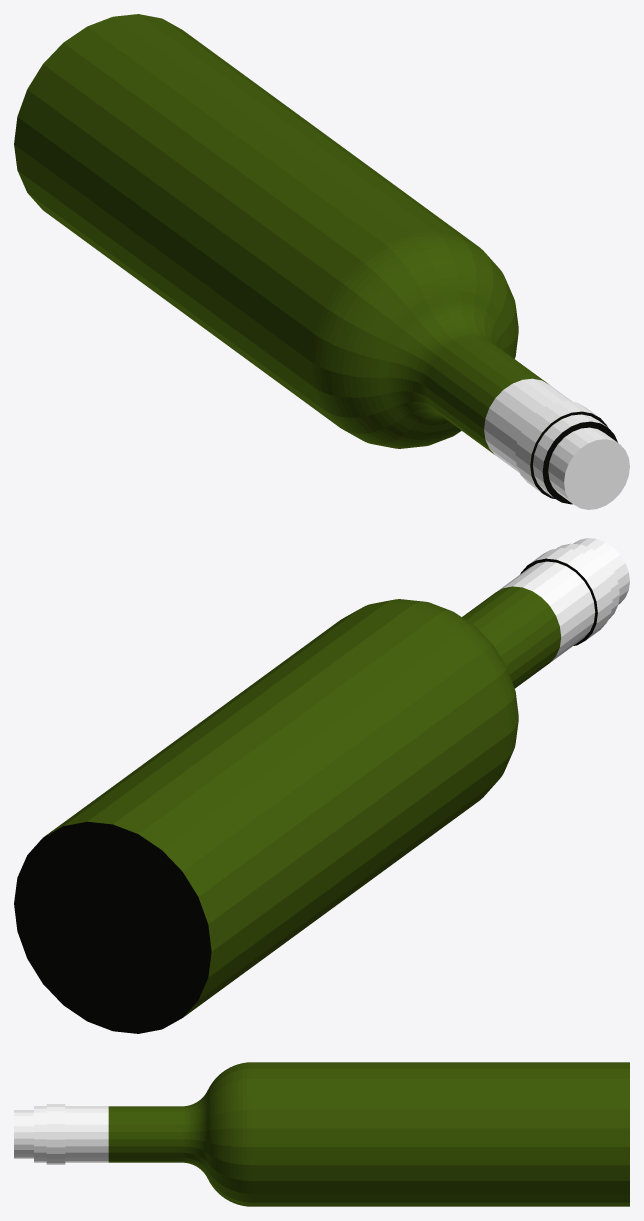
3 views of the same model, one above another, from view 1: azimuth 30°, elevation 25°; view 2: azimuth 150°, elevation 25°; view 3: azimuth 270°, elevation 25° (orthographic). The views are drawn at different scales.
Visible parts, largest first — view 1: bottle; view 2: bottle; view 3: bottle.
Boxes of the visible parts, x1=… form: bottle: x1=14, y1=14, x2=629, y2=509; bottle: x1=14, y1=538, x2=629, y2=1033; bottle: x1=14, y1=1062, x2=629, y2=1206.
Bounding box in the file's own units: 3.61 × 3.61 × 15.3.
